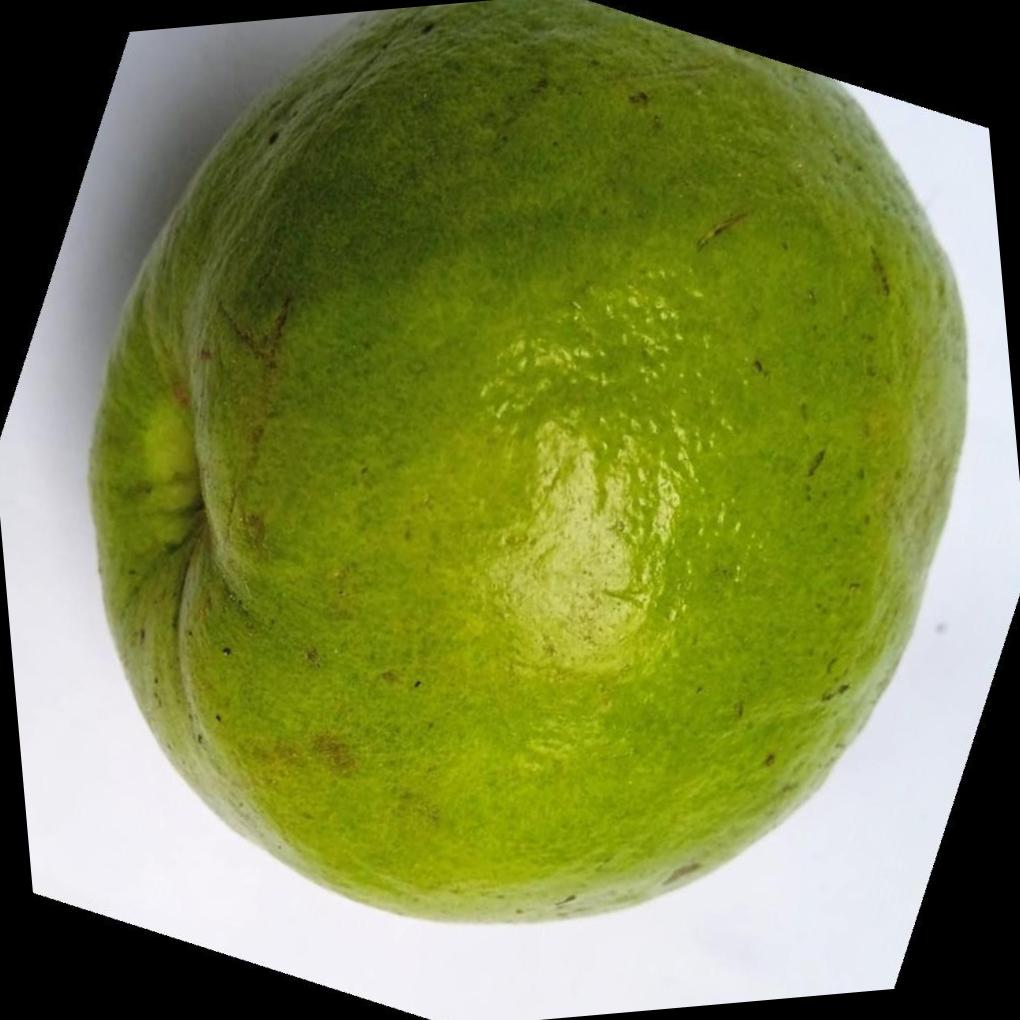FreshGuava: (79, 0, 966, 928)
